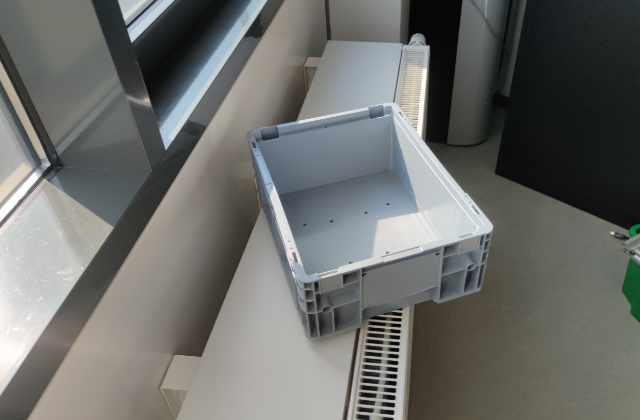Box: (245, 102, 496, 343)
